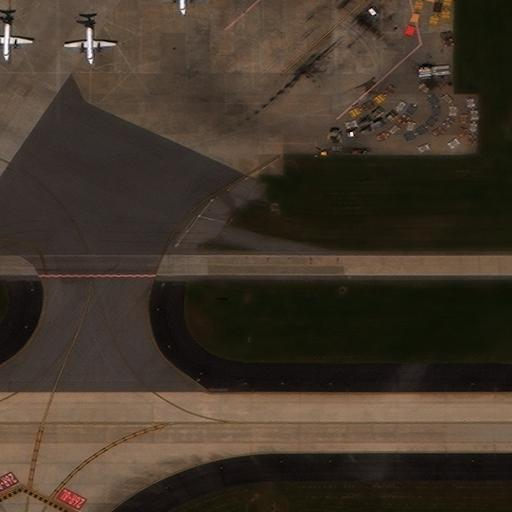Medium Civil Transport: (63, 13, 116, 67), (0, 9, 33, 63), (159, 0, 204, 16)
